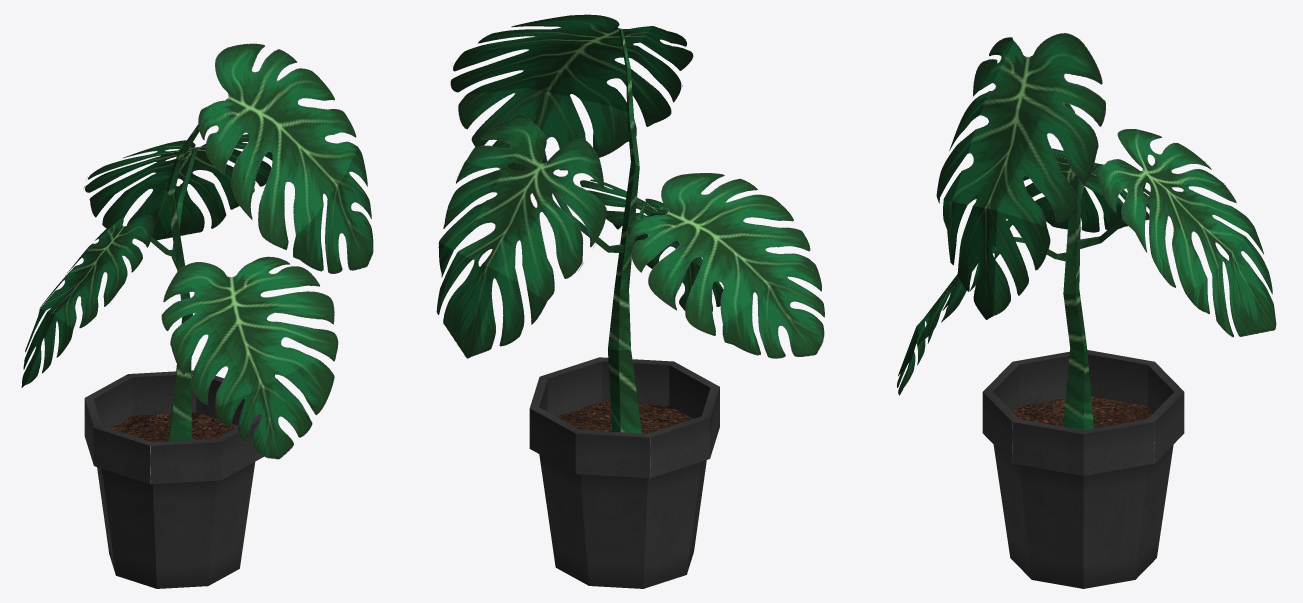
Rendered from Flowerpot.fbx.
3 views of the same model, side by side, from view 1: azimuth 30°, elevation 25°; view 2: azimuth 150°, elevation 25°; view 3: azimuth 270°, elevation 25° (orthographic). The views are drawn at different scales.
Visible parts, largest first — view 1: Plant, Flowerpot; view 2: Plant, Flowerpot; view 3: Plant, Flowerpot.
Part boxes in pixels (x1,y1,x2,y2): Plant: (21, 43, 373, 459); Flowerpot: (84, 370, 263, 588); Plant: (436, 14, 824, 433); Flowerpot: (529, 357, 719, 588); Plant: (897, 33, 1276, 430); Flowerpot: (982, 350, 1184, 588).
Size of the model in its own units: 102 by 131 by 88.04.
Materials: 1 (1 with a texture image).
